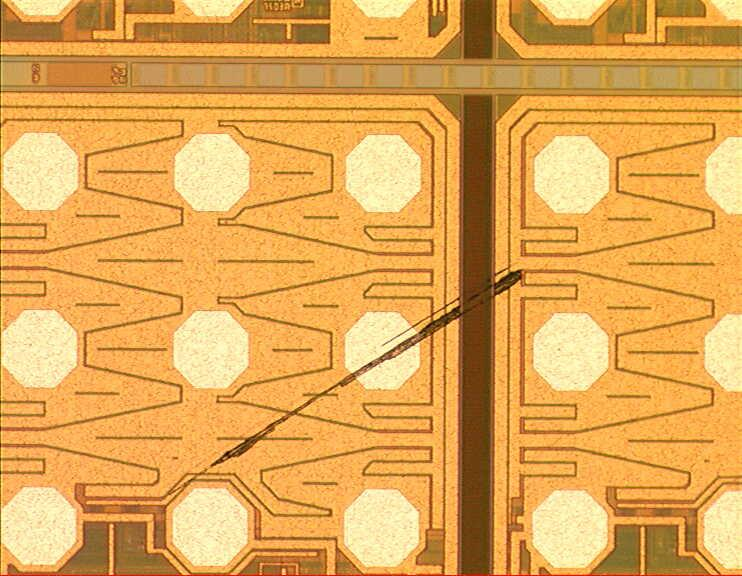SCRATCH: (171, 258, 532, 493)
